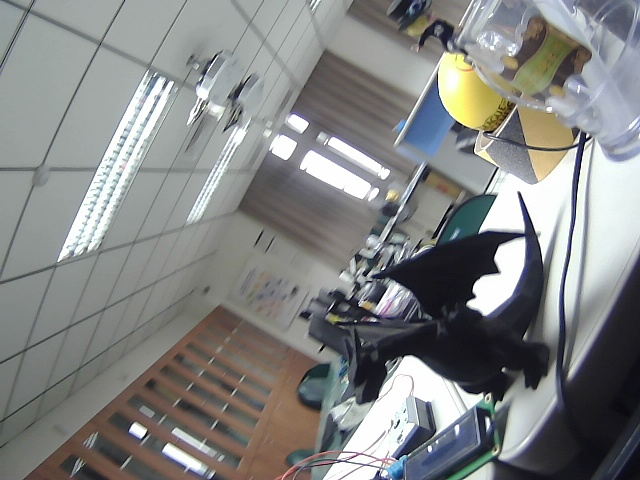charizard: (313, 180, 565, 424)
